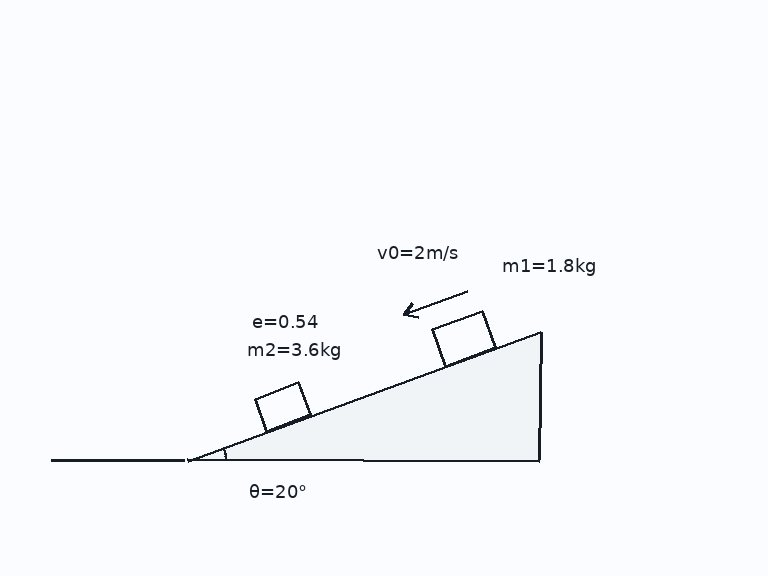block: (430, 309, 497, 368), (253, 381, 312, 433)
ramp: (184, 329, 542, 462)
